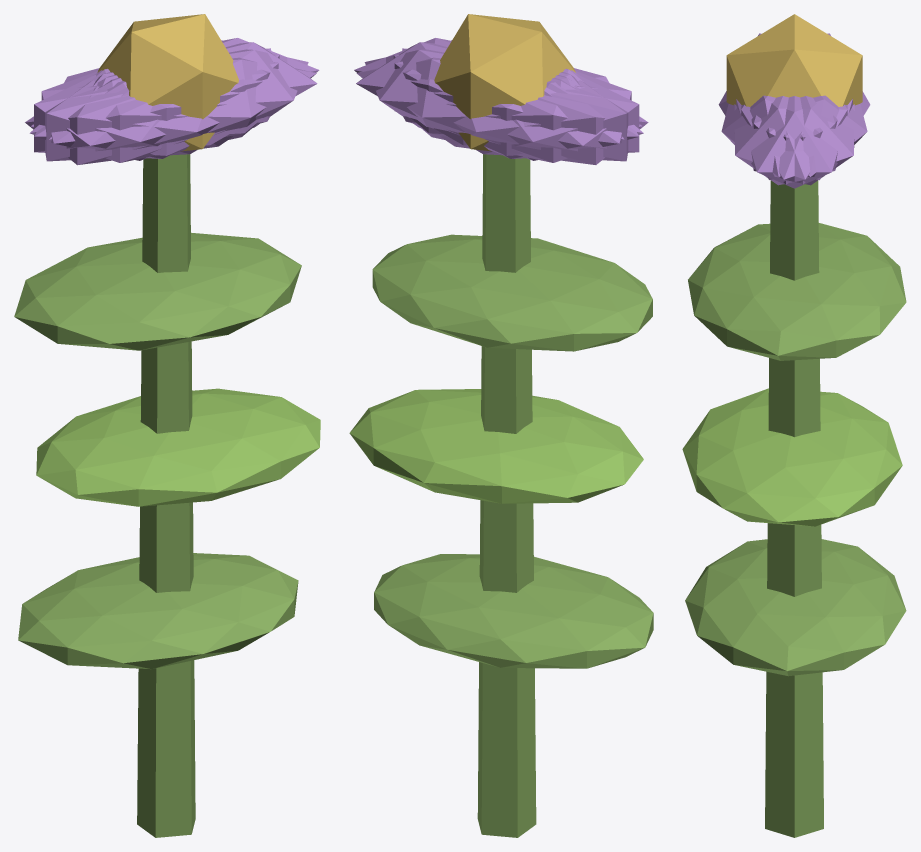
Rendered from streblus-asper.glb.
The picture shows the model from 3 angles, left to right: view 1: azimuth 30°, elevation 25°; view 2: azimuth 150°, elevation 25°; view 3: azimuth 270°, elevation 25°; orthographic projection.
Visible parts, largest first — view 1: stem, leaf1, leaf2, leaf0, center, petal1, petal6, petal2, petal5, petal7, petal0, petal4 (+2 smaller); view 2: stem, leaf2, leaf1, leaf0, center, petal8, petal3, petal7, petal4, petal2, petal0, petal5 (+2 smaller); view 3: stem, leaf1, leaf2, leaf0, center, petal0, petal4, petal5, petal8, petal1.
Boxes of the visible parts, <box> form: stem: <box>137,154,195,837</box>; leaf1: <box>36,388,320,506</box>; leaf2: <box>14,232,301,350</box>; leaf0: <box>18,553,298,669</box>; center: <box>97,14,238,151</box>; petal1: <box>29,57,316,162</box>; petal6: <box>25,70,232,165</box>; petal2: <box>45,48,271,161</box>; petal5: <box>49,49,308,155</box>; petal7: <box>34,54,279,158</box>; petal0: <box>97,42,317,145</box>; petal4: <box>31,38,319,136</box>; stem: <box>477,154,536,837</box>; leaf2: <box>372,234,652,351</box>; leaf1: <box>349,389,643,503</box>; leaf0: <box>374,554,653,668</box>; center: <box>434,14,575,151</box>; petal8: <box>356,57,643,162</box>; petal3: <box>440,70,648,164</box>; petal7: <box>402,48,628,161</box>; petal4: <box>364,49,624,155</box>; petal2: <box>393,54,639,158</box>; petal0: <box>356,42,575,145</box>; petal5: <box>354,38,642,136</box>; stem: <box>765,180,823,837</box>; leaf1: <box>682,388,902,526</box>; leaf2: <box>688,223,906,360</box>; leaf0: <box>685,539,906,676</box>; center: <box>726,14,862,106</box>; petal0: <box>736,96,852,188</box>; petal4: <box>741,96,854,185</box>; petal5: <box>734,96,847,185</box>; petal8: <box>751,95,867,177</box>; petal1: <box>721,95,837,177</box>.
Size of the model in its own units: 0.1495 by 0.3941 by 0.1009.
